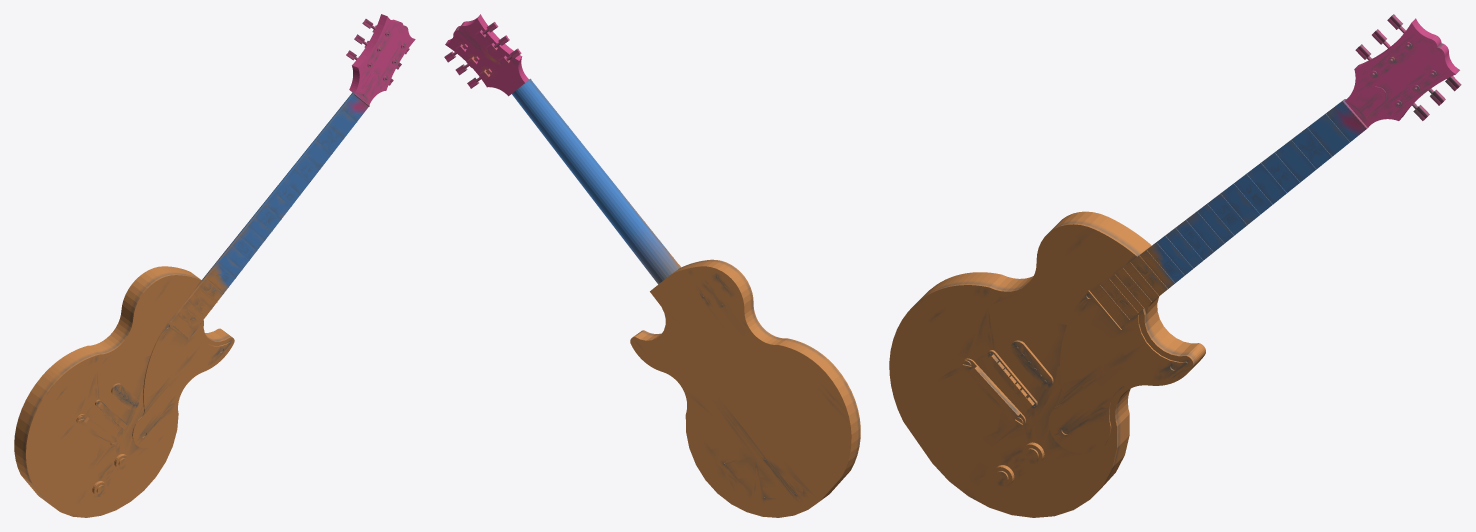
The picture shows the model from 3 angles, left to right: view 1: azimuth 30°, elevation 25°; view 2: azimuth 150°, elevation 25°; view 3: azimuth 330°, elevation 25°; orthographic projection. The views are drawn at different scales.
Parts seen in each view (by area): view 1: geometry_0.017; view 2: geometry_0.017; view 3: geometry_0.017.
Boxes of the visible parts, left/top/right/bottom form: geometry_0.017: left=14, top=14, right=415, bottom=517; geometry_0.017: left=444, top=14, right=860, bottom=517; geometry_0.017: left=889, top=14, right=1461, bottom=517.
Bounding box in the file's own units: 0.8936 × 0.9071 × 0.0768.
